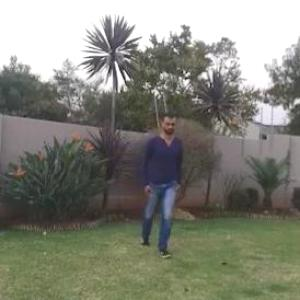follow: (142, 115, 179, 244)
